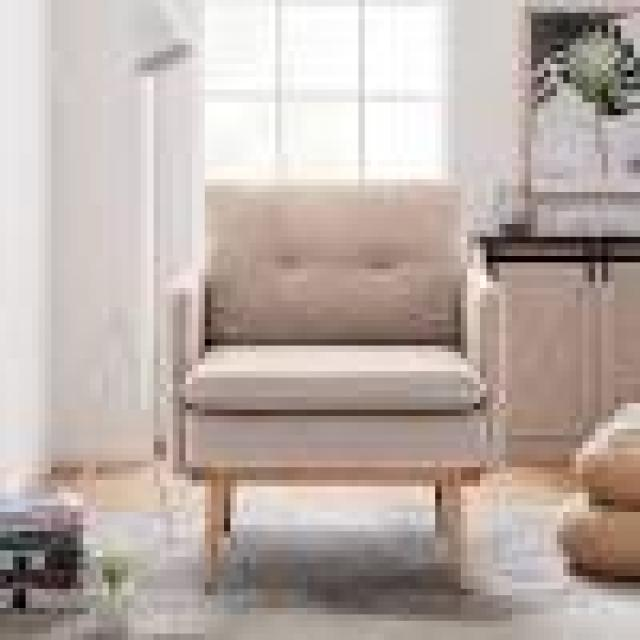chair: (112, 137, 531, 609)
